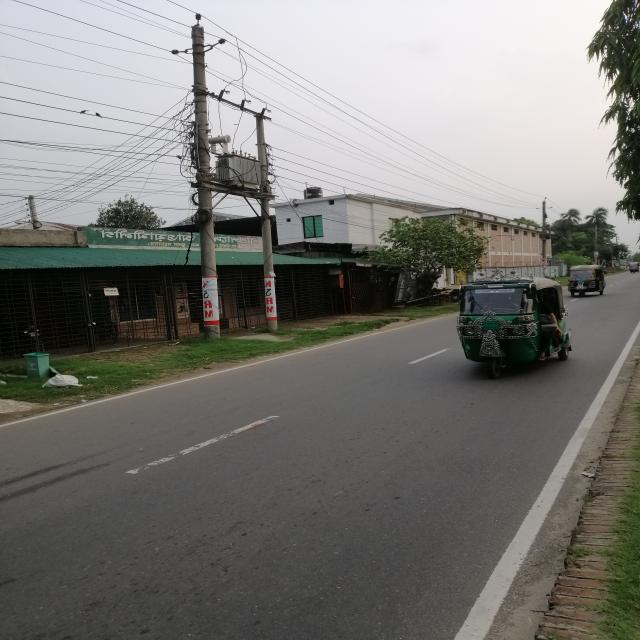CNG: (448, 271, 573, 378)
